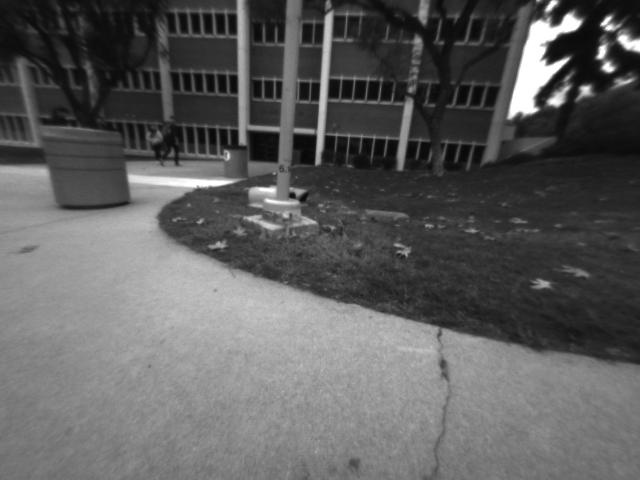trashcan: (37, 126, 132, 207), (221, 144, 251, 176)
